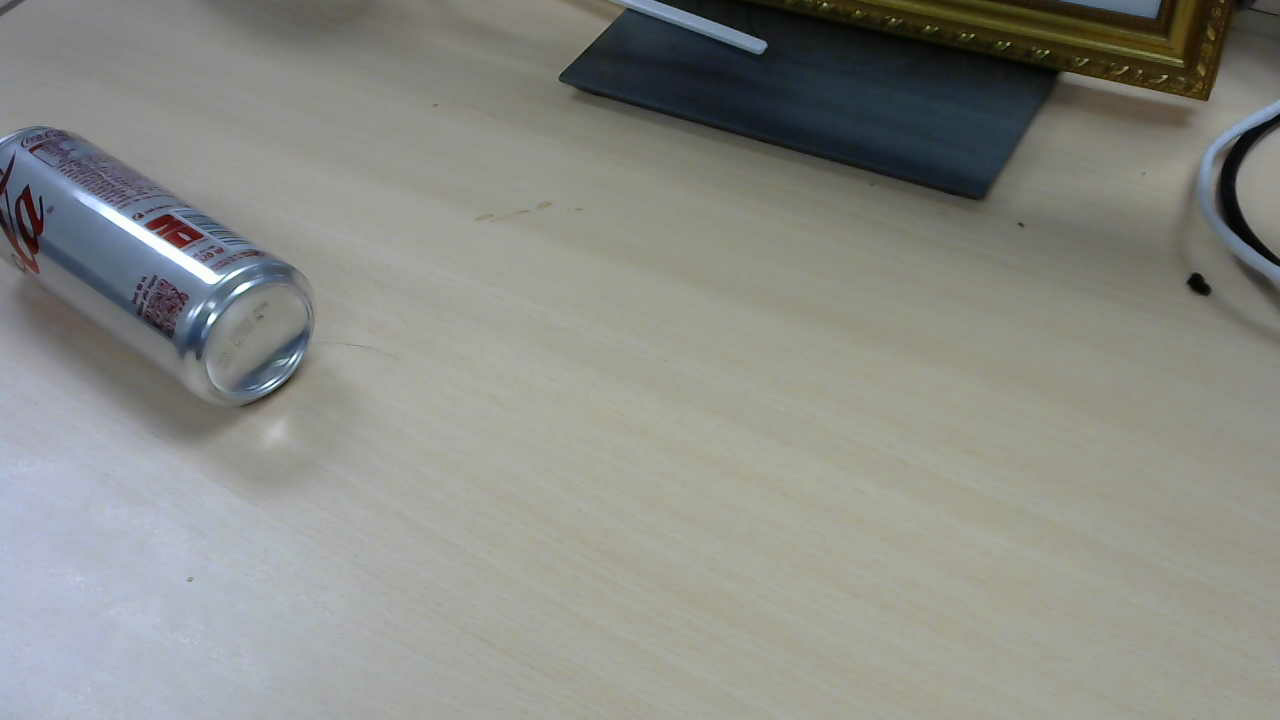Coca_Cola: (6, 129, 321, 416)
